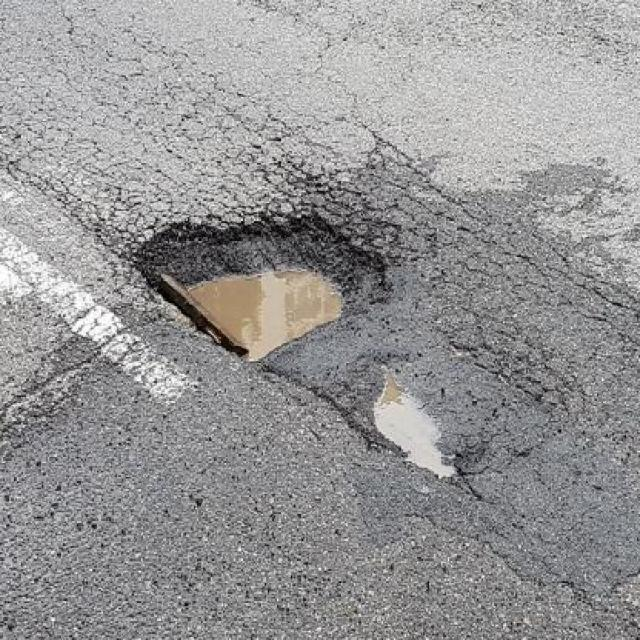Buraco: (128, 205, 400, 368), (358, 350, 465, 482)
